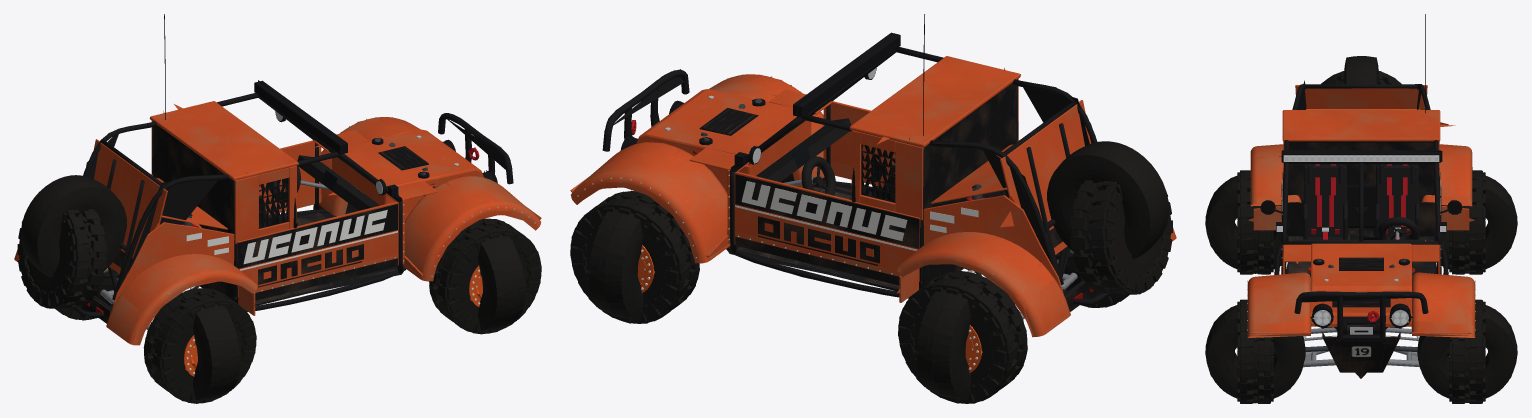
The model's file is trophy4400.glb.
3 renders of one model, left to right at view 1: azimuth 30°, elevation 25°; view 2: azimuth 150°, elevation 25°; view 3: azimuth 270°, elevation 25°, orthographic. The views are drawn at different scales.
Visible parts, largest first — view 1: body_L0, body_L1, tyre-rr_L0, spare-tyre_L1, tyre-fr_L0, spare-tyre_L0, body_L2, tyre-fr_L1, tyre-rr_L1, tyre-fr_L2, tyre-rr_L2; view 2: body_L0, body_L1, tyre-rl_L0, spare-tyre_L1, spare-tyre_L0, tyre-fl_L0, body_L2, tyre-fl_L1, tyre-rl_L1, tyre-fl_L2, tyre-rl_L2, steer-wheel_L0 (+1 smaller); view 3: body_L0, body_L1, tyre-fr_L0, tyre-fl_L0, tyre-fr_L1, tyre-fl_L1, tyre-rl_L0, tyre-rr_L0, tyre-rr_L1, tyre-fl_L2, tyre-rl_L1, tyre-fr_L2 (+8 smaller).
Boxes of the visible parts, x1=… form: body_L0: x1=14, y1=81, x2=541, y2=345; body_L1: x1=14, y1=93, x2=541, y2=345; tyre-rr_L0: x1=143, y1=288, x2=256, y2=403; spare-tyre_L1: x1=21, y1=175, x2=126, y2=277; tyre-fr_L0: x1=429, y1=218, x2=541, y2=334; spare-tyre_L0: x1=17, y1=209, x2=106, y2=308; body_L2: x1=85, y1=80, x2=510, y2=316; tyre-fr_L1: x1=466, y1=224, x2=525, y2=330; tyre-rr_L1: x1=181, y1=294, x2=240, y2=399; tyre-fr_L2: x1=466, y1=223, x2=525, y2=330; tyre-rr_L2: x1=181, y1=293, x2=240, y2=399; body_L0: x1=570, y1=32, x2=1175, y2=336; body_L1: x1=571, y1=47, x2=1176, y2=337; tyre-rl_L0: x1=898, y1=270, x2=1027, y2=403; spare-tyre_L1: x1=1047, y1=141, x2=1168, y2=259; spare-tyre_L0: x1=1070, y1=180, x2=1172, y2=294; tyre-fl_L0: x1=570, y1=190, x2=699, y2=323; body_L2: x1=613, y1=68, x2=1093, y2=303; tyre-fl_L1: x1=589, y1=198, x2=655, y2=319; tyre-rl_L1: x1=917, y1=278, x2=984, y2=399; tyre-fl_L2: x1=588, y1=197, x2=656, y2=319; tyre-rl_L2: x1=916, y1=277, x2=984, y2=399; steer-wheel_L0: x1=801, y1=156, x2=835, y2=195; body_L0: x1=1247, y1=84, x2=1475, y2=372; body_L1: x1=1247, y1=84, x2=1475, y2=357; tyre-fr_L0: x1=1237, y1=299, x2=1273, y2=403; tyre-fl_L0: x1=1449, y1=299, x2=1485, y2=403; tyre-fr_L1: x1=1206, y1=305, x2=1305, y2=398; tyre-fl_L1: x1=1417, y1=305, x2=1516, y2=398; tyre-rl_L0: x1=1449, y1=170, x2=1485, y2=274; tyre-rr_L0: x1=1237, y1=170, x2=1273, y2=274; tyre-rr_L1: x1=1206, y1=176, x2=1288, y2=268; tyre-fl_L2: x1=1417, y1=308, x2=1517, y2=398; tyre-rl_L1: x1=1434, y1=176, x2=1516, y2=268; tyre-fr_L2: x1=1205, y1=307, x2=1305, y2=398.
Bounding box in the file's own units: 5.04 × 3.19 × 3.21.
29 materials, 6 textured.
